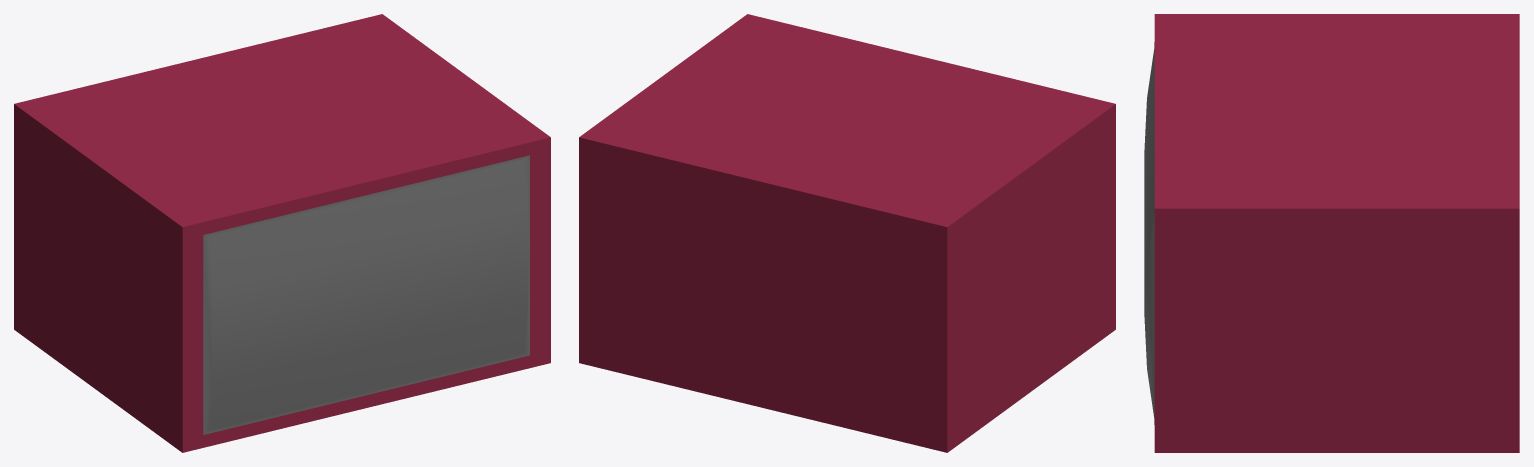
File: B_Moniter.fbx
The picture shows the model from 3 angles, left to right: view 1: azimuth 30°, elevation 25°; view 2: azimuth 150°, elevation 25°; view 3: azimuth 270°, elevation 25°; orthographic projection. The views are drawn at different scales.
Visible parts, largest first — view 1: B_Moniter; view 2: B_Moniter; view 3: B_Moniter.
Boxes of the visible parts, box(x1,y1,x2,y2) form: B_Moniter: box(14, 14, 550, 452); B_Moniter: box(579, 14, 1115, 452); B_Moniter: box(1144, 14, 1519, 452).
Size of the model in its own units: 2.53 by 1.48 by 2.06.
